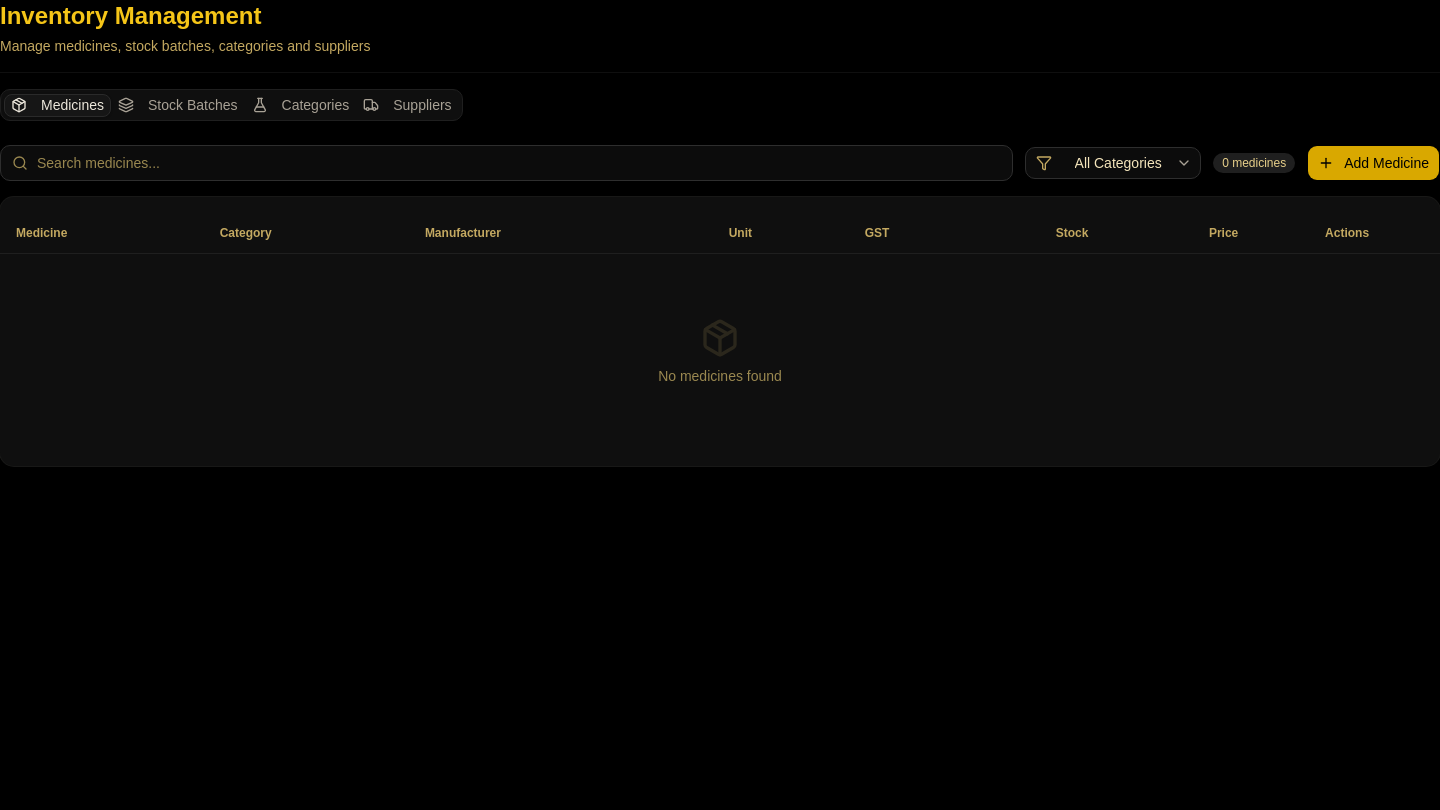
Test: Inventory — Add Stock completeness guard › keeps submit disabled until every required field is filled
Click the tab "Stock Batches" at (178, 105), box x1=111 y1=94 x2=244 y2=116
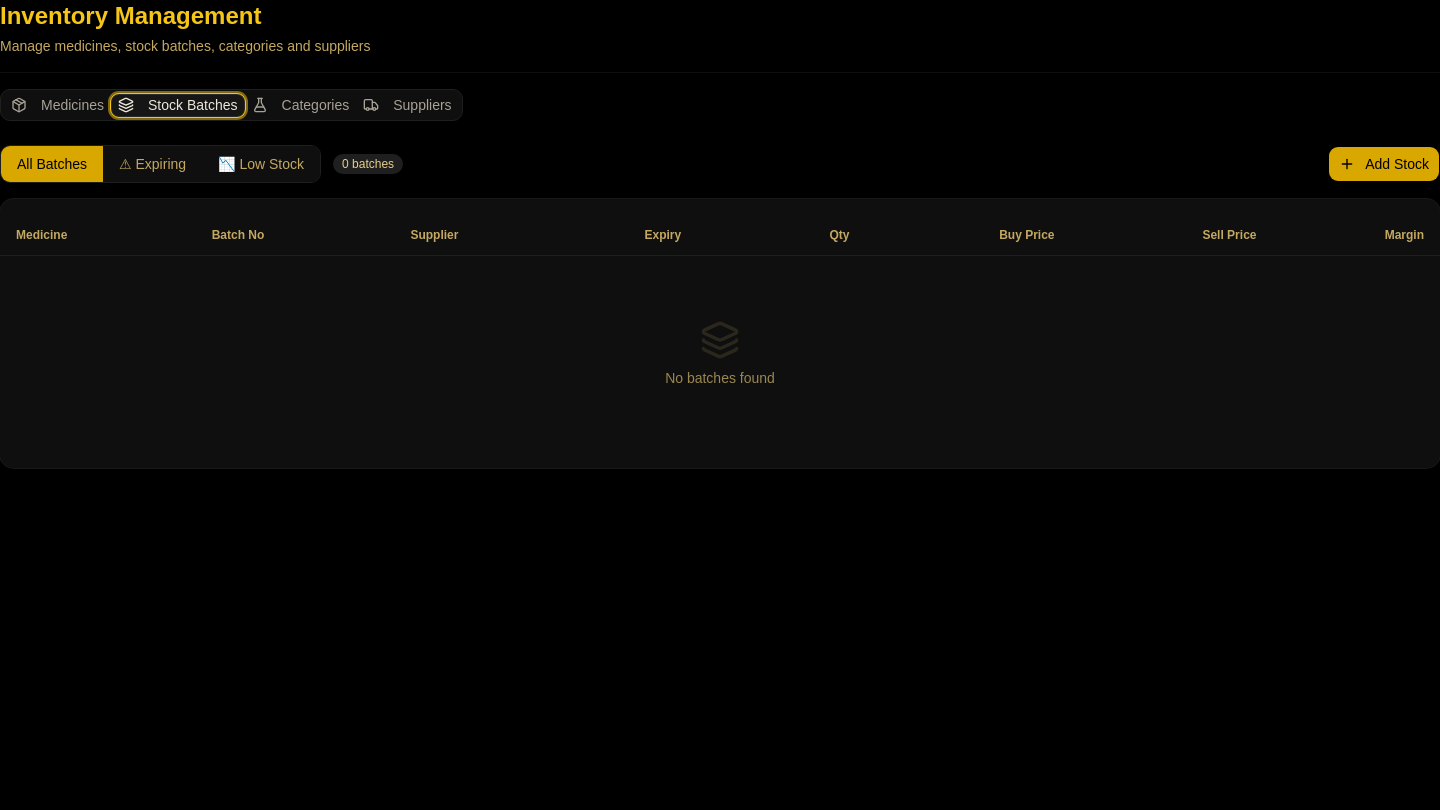
Click the button "Add Stock" at (1384, 164), box x1=1328 y1=146 x2=1439 y2=182
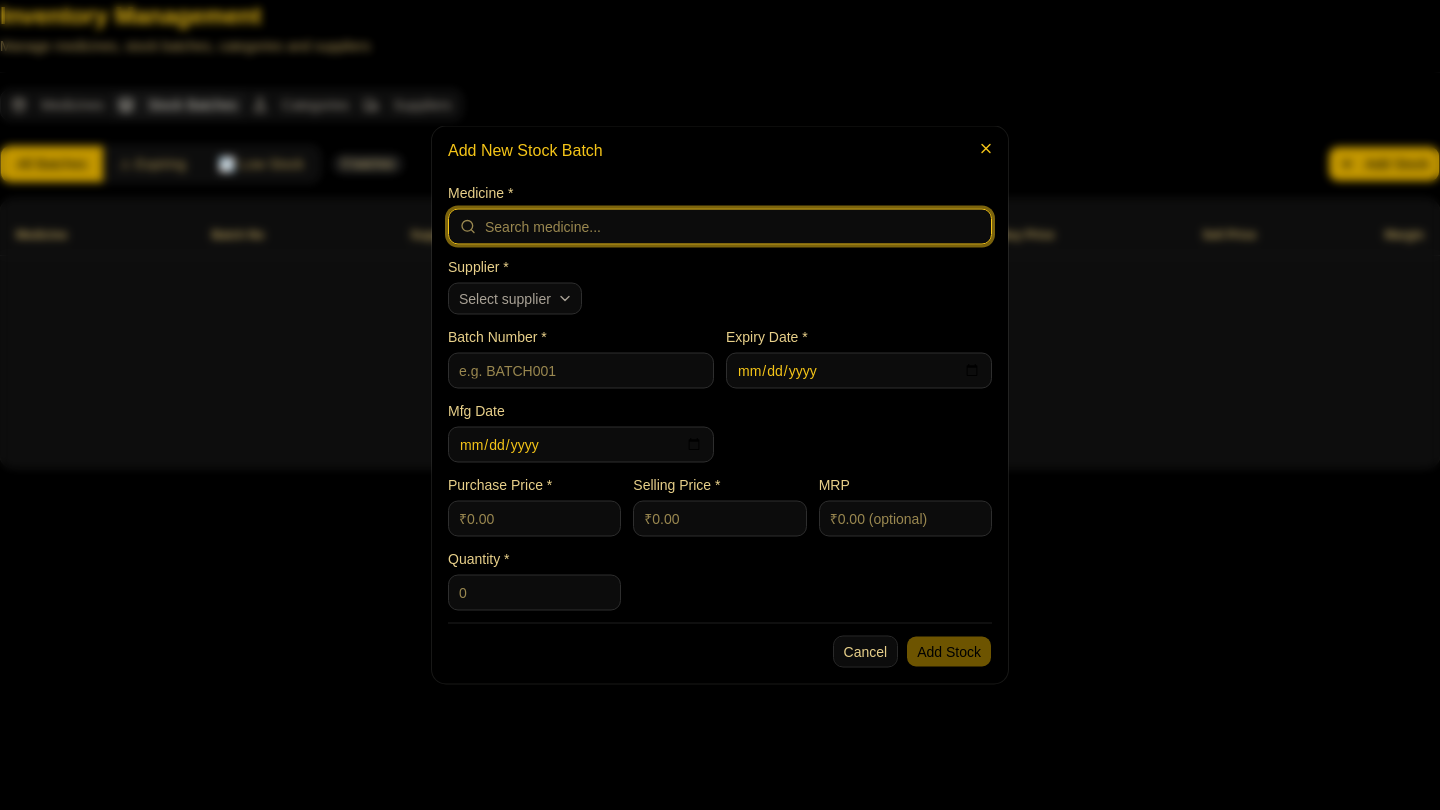
Result: the button "Add Stock" is disabled at x1=906 y1=636 x2=992 y2=668
